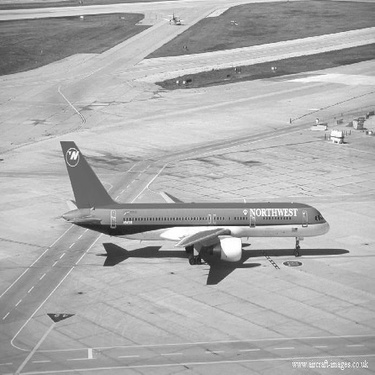airplane: (46, 129, 344, 275)
